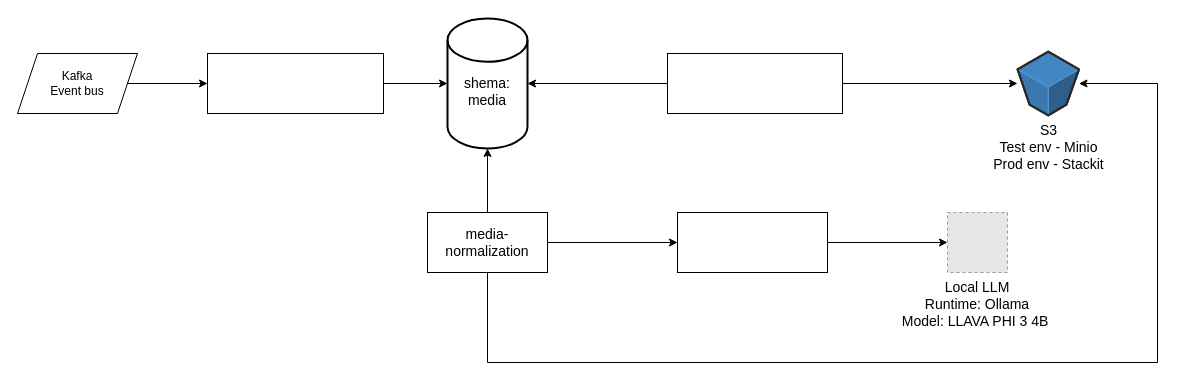
The diagram is 1183 pixels wide and 388 high, and some of its shapes have lost their labels. Grey dashed boxes stand in for pictures. Each missing label, with the centre of its shape:
"ai-orchestrator" goes at [752,242].
"media-rehosting-processor" goes at [754,83].
"media-rehosting-subsriber" goes at [295,83].
